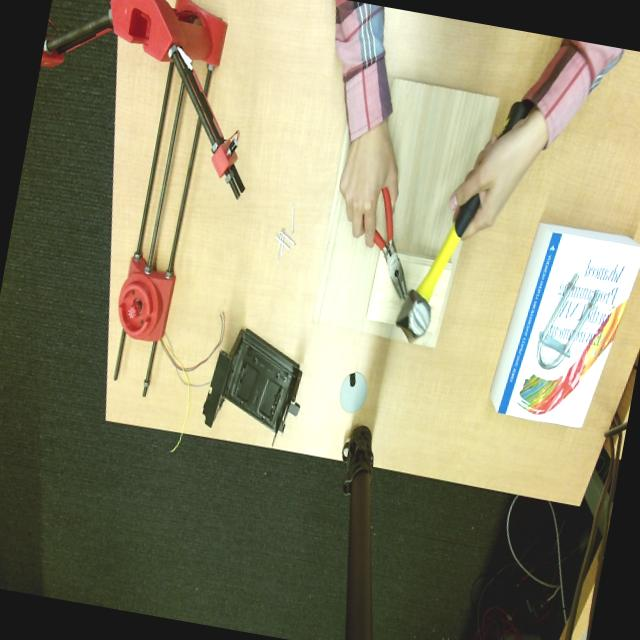hammer: (396, 195, 480, 340), (500, 99, 533, 135)
pliers: (373, 187, 408, 308)
